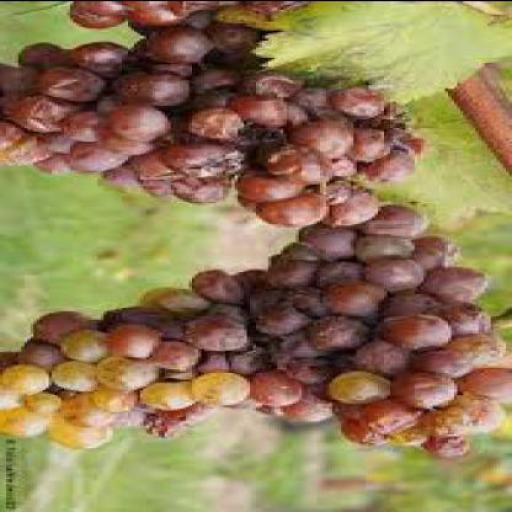biodegradable: (258, 0, 511, 100), (9, 88, 92, 130), (264, 140, 338, 185), (110, 99, 184, 141), (103, 302, 186, 337), (33, 64, 110, 101), (113, 67, 192, 103), (168, 139, 242, 175), (278, 331, 348, 366), (384, 311, 454, 346), (150, 401, 220, 435), (399, 368, 460, 407), (142, 282, 216, 314), (186, 310, 250, 347), (360, 202, 434, 234), (265, 190, 332, 225), (98, 354, 164, 389), (232, 92, 298, 127), (335, 364, 402, 398), (445, 330, 509, 365), (144, 28, 214, 60), (34, 308, 104, 339), (362, 395, 426, 428), (190, 104, 256, 136), (326, 185, 384, 221), (241, 164, 308, 195), (433, 298, 494, 332), (254, 366, 308, 404), (332, 280, 396, 312), (430, 266, 494, 298), (131, 36, 195, 68), (110, 321, 168, 356), (192, 267, 250, 302), (320, 313, 378, 348), (67, 140, 134, 170), (457, 390, 509, 428), (76, 39, 130, 75), (55, 414, 116, 445), (363, 147, 417, 182), (292, 353, 350, 385), (259, 300, 317, 332), (290, 384, 341, 420), (363, 337, 414, 373), (463, 363, 511, 401), (70, 389, 120, 425), (372, 257, 433, 286), (424, 402, 478, 434), (306, 224, 360, 256), (360, 230, 418, 259), (174, 173, 235, 200), (275, 256, 326, 288), (336, 84, 390, 114), (55, 356, 104, 388), (144, 377, 198, 406), (418, 346, 476, 373), (196, 60, 250, 89), (67, 326, 113, 360), (3, 132, 55, 162), (156, 336, 207, 366), (240, 119, 290, 149), (387, 289, 445, 314), (418, 233, 463, 265), (70, 106, 112, 140), (3, 406, 52, 435), (424, 430, 478, 456), (22, 38, 76, 64), (130, 8, 192, 30), (320, 256, 372, 282), (214, 24, 265, 50), (134, 144, 176, 175), (298, 281, 336, 315), (95, 132, 159, 152), (274, 240, 332, 262), (347, 416, 396, 442), (24, 339, 66, 369), (293, 84, 335, 114), (317, 173, 362, 200), (12, 360, 52, 390), (3, 60, 36, 96), (353, 128, 390, 160), (70, 6, 128, 26), (238, 339, 274, 370), (220, 1, 278, 20), (362, 104, 412, 126), (192, 346, 234, 372), (104, 160, 146, 186), (214, 43, 259, 67), (91, 389, 140, 411), (189, 91, 238, 113), (210, 299, 252, 324), (37, 151, 82, 173), (253, 286, 290, 312), (146, 169, 183, 194), (46, 125, 80, 151), (173, 0, 243, 12), (240, 266, 278, 288), (3, 116, 30, 146), (28, 390, 67, 410), (122, 398, 152, 424), (400, 128, 430, 153), (336, 151, 368, 173), (73, 0, 131, 12), (183, 7, 216, 27), (3, 380, 28, 406), (338, 398, 372, 417), (393, 426, 433, 442), (165, 365, 207, 380), (292, 99, 314, 124), (124, 1, 175, 9), (235, 396, 262, 406), (264, 399, 286, 411), (3, 350, 18, 363)
